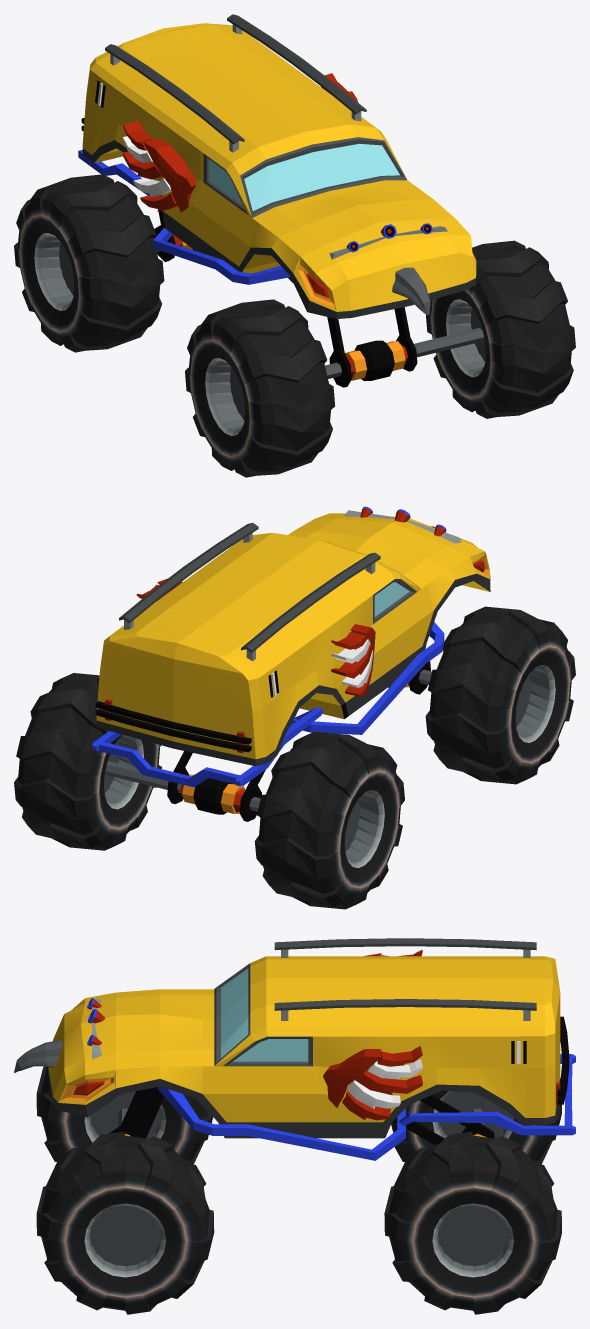
Rendered from truck 5.fbx.
The picture shows the model from 3 angles, top to bottom: view 1: azimuth 30°, elevation 25°; view 2: azimuth 150°, elevation 25°; view 3: azimuth 270°, elevation 25°; orthographic projection.
Parts seen in each view (by area): view 1: Monster_Truck_Body_5_Eagle_0, Wheel_FR_5_Eagle_0, Wheel_FR_5_Eagle_0.002, Wheel_FR_5_Eagle_0.001; view 2: Monster_Truck_Body_5_Eagle_0, Wheel_FR_5_Eagle_0.002, Wheel_FR_5_Eagle_0, Wheel_FR_5_Eagle_0.003; view 3: Monster_Truck_Body_5_Eagle_0, Wheel_FR_5_Eagle_0.001, Wheel_FR_5_Eagle_0.003, Wheel_FR_5_Eagle_0, Wheel_FR_5_Eagle_0.002.
Boxes of the visible parts, <box> form: Monster_Truck_Body_5_Eagle_0: <box>78,14,484,387</box>; Wheel_FR_5_Eagle_0: <box>185,299,334,477</box>; Wheel_FR_5_Eagle_0.002: <box>14,174,164,352</box>; Wheel_FR_5_Eagle_0.001: <box>426,240,575,418</box>; Monster_Truck_Body_5_Eagle_0: <box>92,506,490,821</box>; Wheel_FR_5_Eagle_0.002: <box>254,731,404,909</box>; Wheel_FR_5_Eagle_0: <box>425,606,575,784</box>; Wheel_FR_5_Eagle_0.003: <box>14,673,161,850</box>; Monster_Truck_Body_5_Eagle_0: <box>14,938,575,1160</box>; Wheel_FR_5_Eagle_0.001: <box>36,1131,214,1314</box>; Wheel_FR_5_Eagle_0.003: <box>384,1131,561,1314</box>; Wheel_FR_5_Eagle_0: <box>36,1066,212,1164</box>; Wheel_FR_5_Eagle_0.002: <box>391,1090,561,1164</box>.
Size of the model in its own units: 35.44 by 28.25 by 53.05.
1 material, 1 textured.
